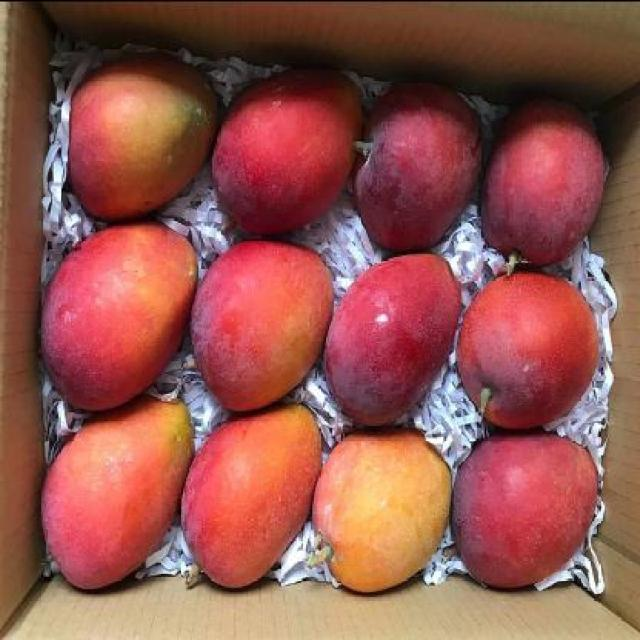Mango: (43, 218, 199, 412), (39, 394, 192, 591), (66, 56, 222, 230), (184, 402, 321, 590), (212, 65, 363, 234), (310, 420, 455, 594), (451, 428, 601, 595), (455, 271, 605, 434), (324, 250, 461, 426), (194, 240, 331, 410), (354, 80, 484, 253), (480, 94, 610, 266)
